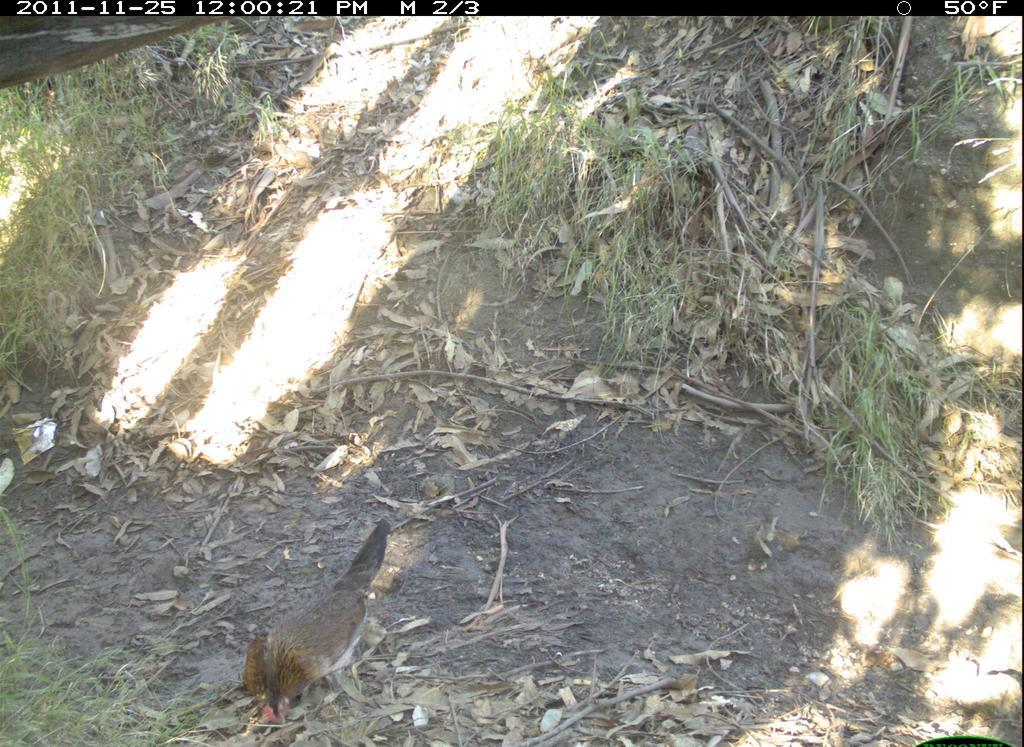bird: (225, 519, 397, 742)
